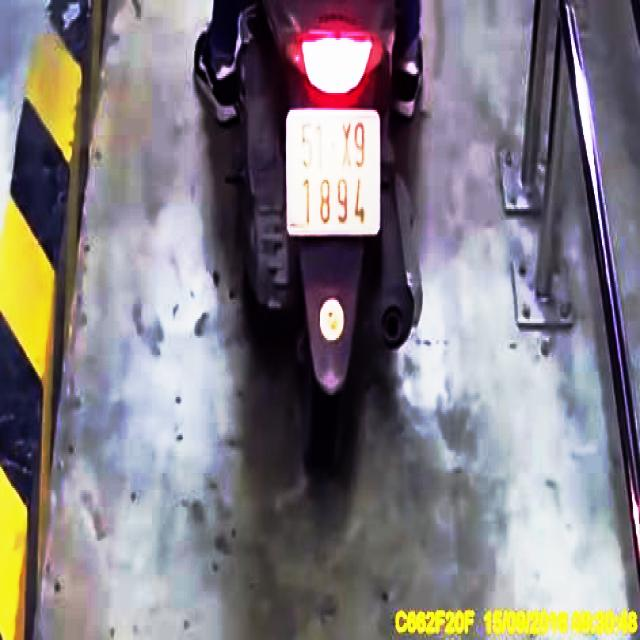license_plate: (287, 108, 382, 235)
